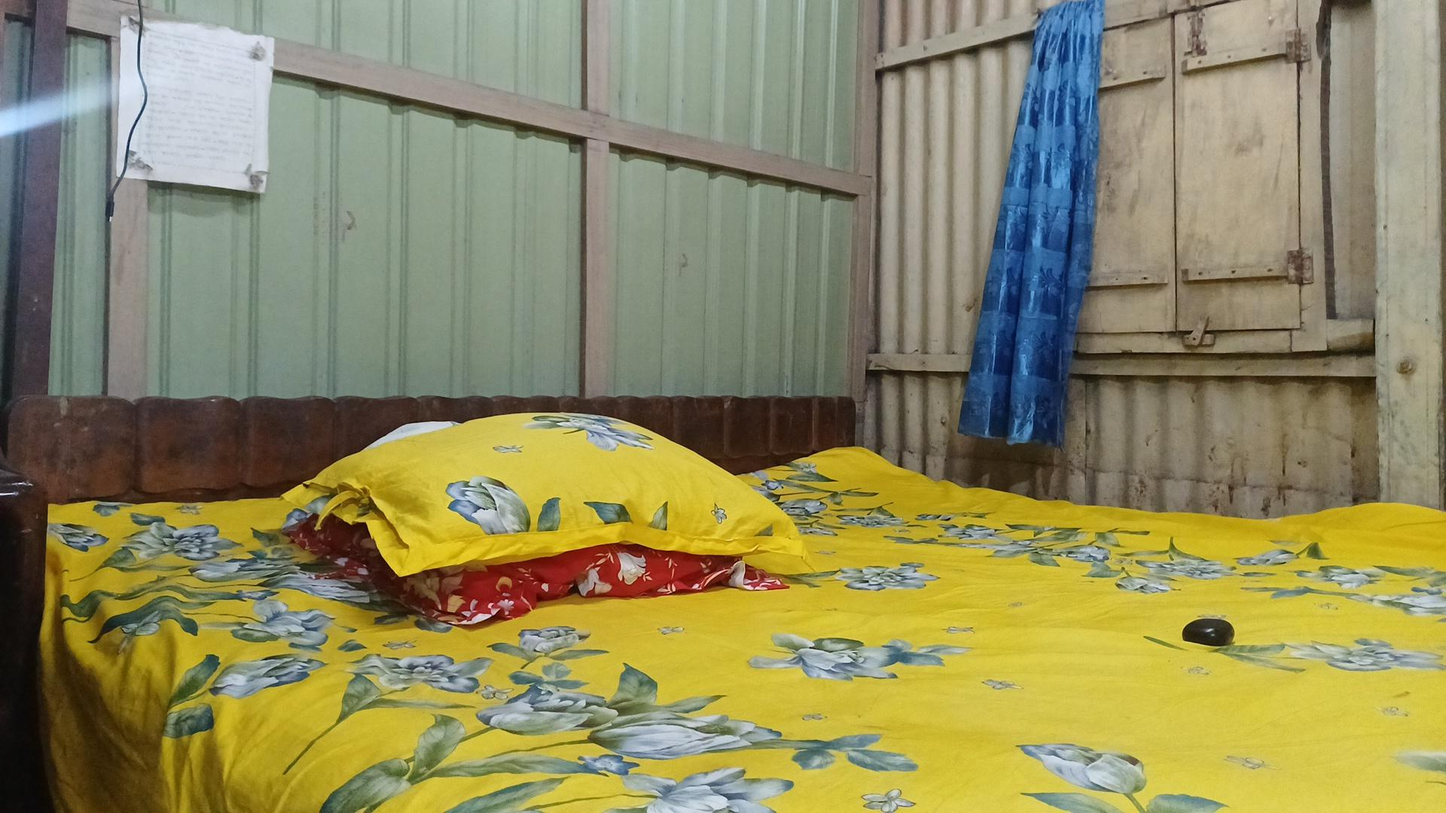Pillow: (257, 414, 823, 629)
Window: (1019, 2, 1334, 360)
